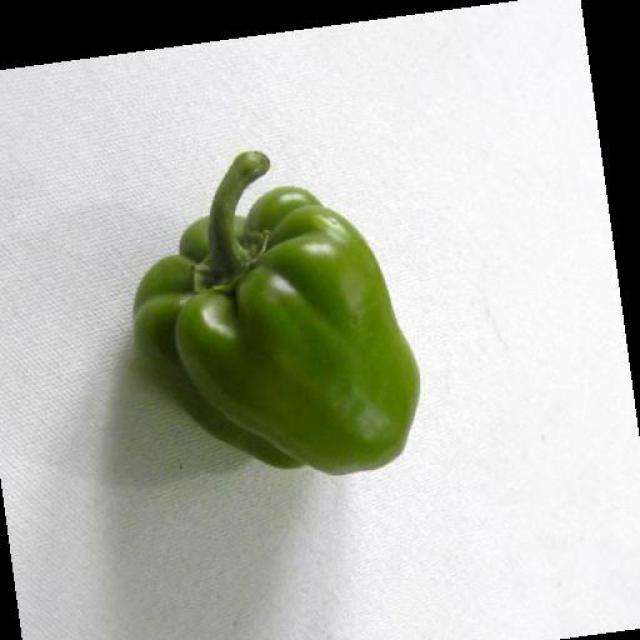Fresh_Capsicum: (119, 171, 435, 482)
